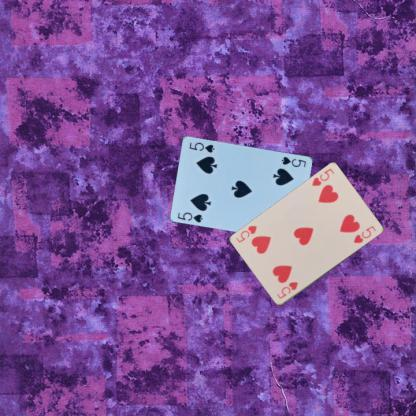5h: (309, 166, 335, 188), (274, 279, 299, 301)
5s: (278, 154, 308, 168), (176, 209, 204, 224)
